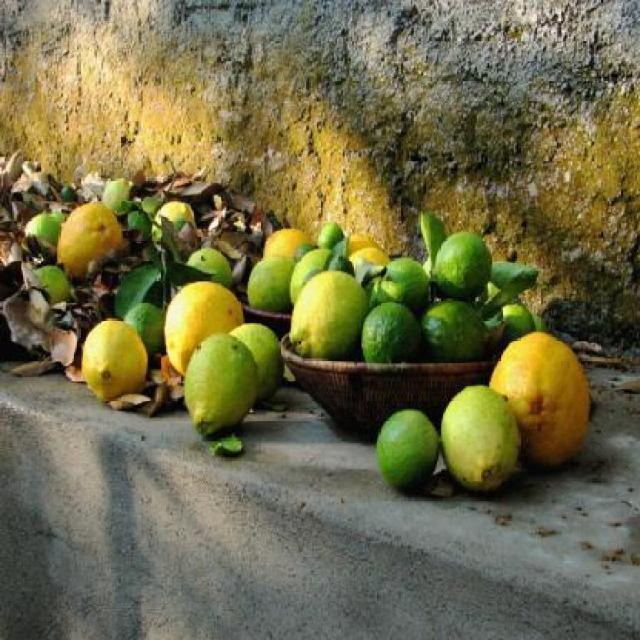Lemon: (288, 230, 550, 361), (492, 328, 592, 466), (252, 226, 388, 306), (439, 384, 521, 490), (182, 332, 258, 437), (162, 281, 245, 377), (289, 273, 366, 355), (375, 408, 440, 494), (81, 320, 145, 402), (59, 205, 124, 282), (228, 322, 284, 404), (125, 300, 164, 363), (150, 200, 196, 243), (186, 247, 231, 290), (33, 264, 70, 302), (100, 178, 134, 214), (26, 212, 60, 245)
